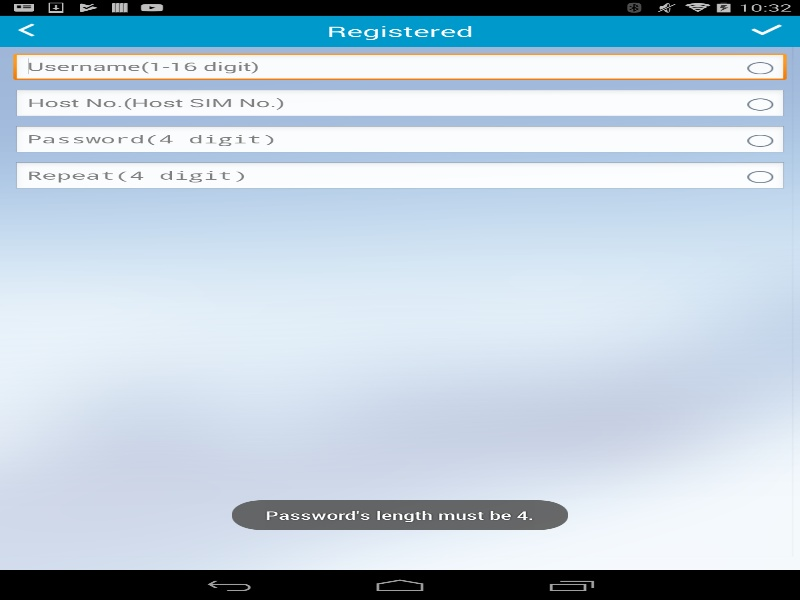Button: (741, 15, 800, 44), (0, 15, 48, 44)
Input: (13, 53, 786, 83), (13, 89, 786, 119), (13, 125, 786, 155), (13, 161, 786, 191)
